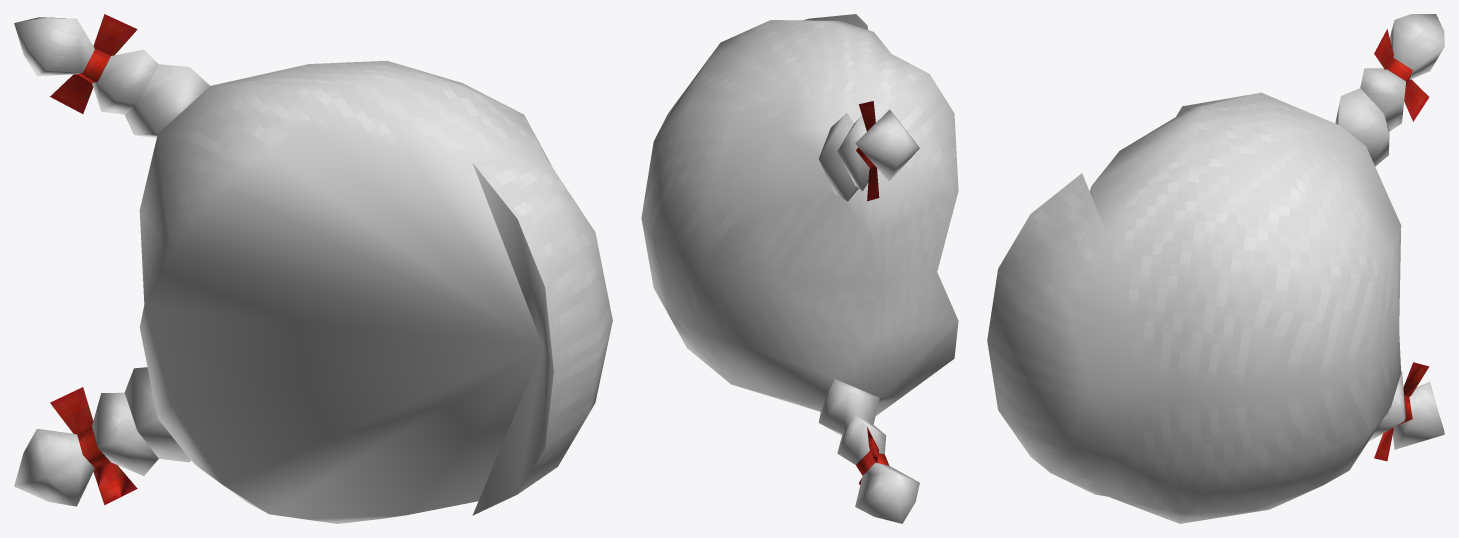
The model's file is hlmt_wig_braid.dae.
3 views of the same model, side by side, from view 1: azimuth 30°, elevation 25°; view 2: azimuth 150°, elevation 25°; view 3: azimuth 270°, elevation 25° (orthographic). The views are drawn at different scales.
Parts seen in each view (by area): view 1: hlmt_wig_braid; view 2: hlmt_wig_braid; view 3: hlmt_wig_braid.
Part boxes in pixels (<box>): hlmt_wig_braid: <box>14,14,612,523</box>; hlmt_wig_braid: <box>641,14,958,523</box>; hlmt_wig_braid: <box>987,14,1444,523</box>.
Bounding box in the file's own units: 23.64 × 27.18 × 26.04.
2 materials, 2 textured.
